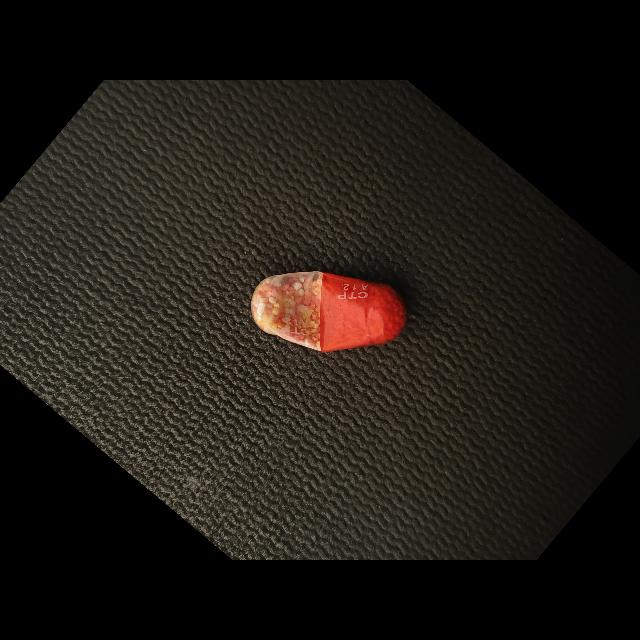Defective Capsule: (251, 271, 406, 353)
